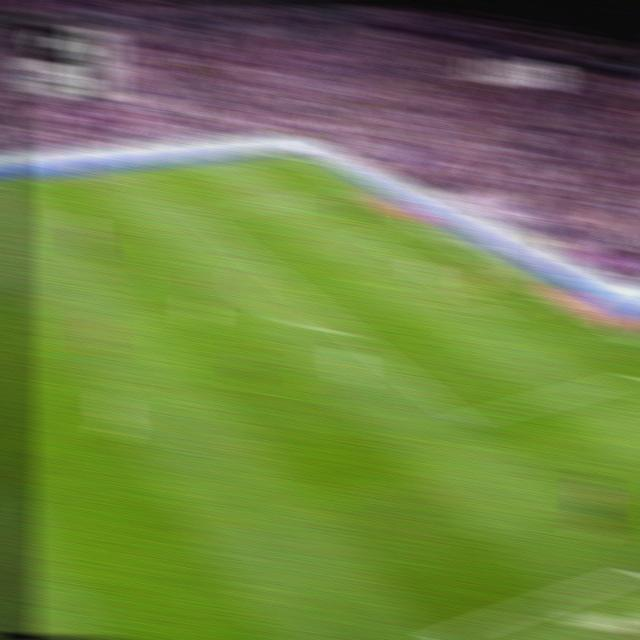bigarea_bottom_inner: (450, 406, 479, 434)
bigarea_top_inner: (186, 204, 209, 221)
bottom_arc_area_intersection: (337, 322, 362, 341)
corner: (276, 149, 301, 161)
smallarea_top_inner: (356, 229, 377, 241)
top_arc_area_intersection: (245, 251, 271, 269)
